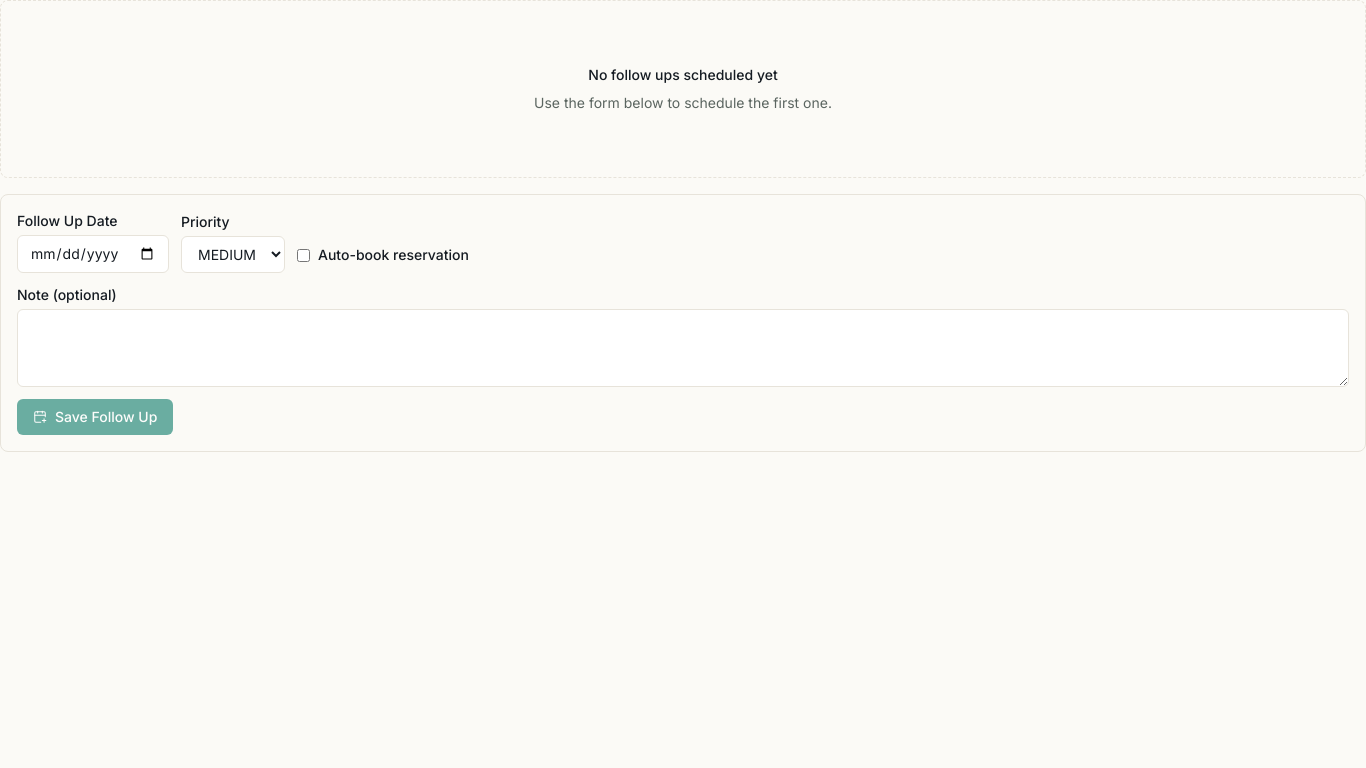
FollowUpSection › reveals the auto-book fields when the toggle is checked
This screenshot has width=1366, height=768.
Expected: the text "No follow ups scheduled yet" is shown, [588, 65, 778, 85]
Expected: the field labelled "Doctor" is not shown
Click the checkbox labelled "Auto-book reservation" at (304, 255), box [297, 248, 310, 262]
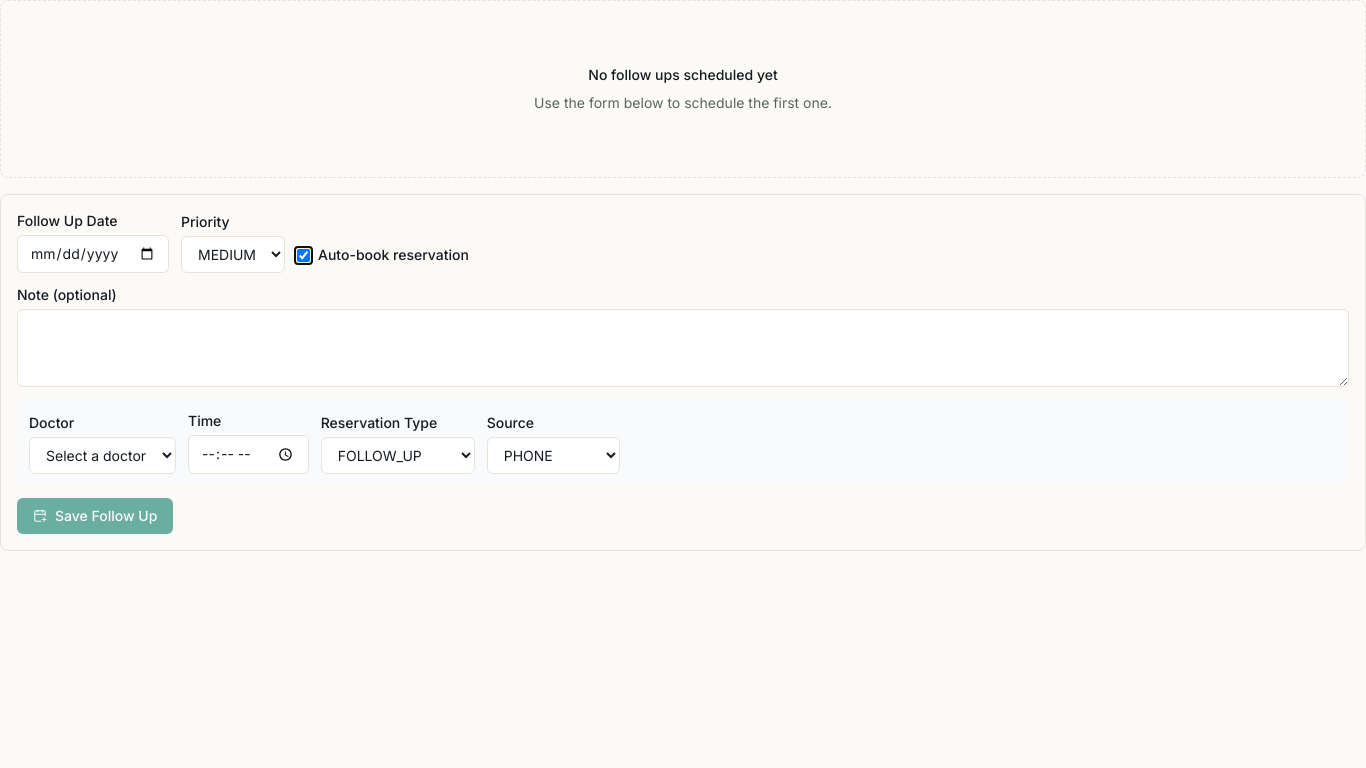
Expected: the dropdown labelled "Doctor" is shown, [29, 437, 176, 474]
